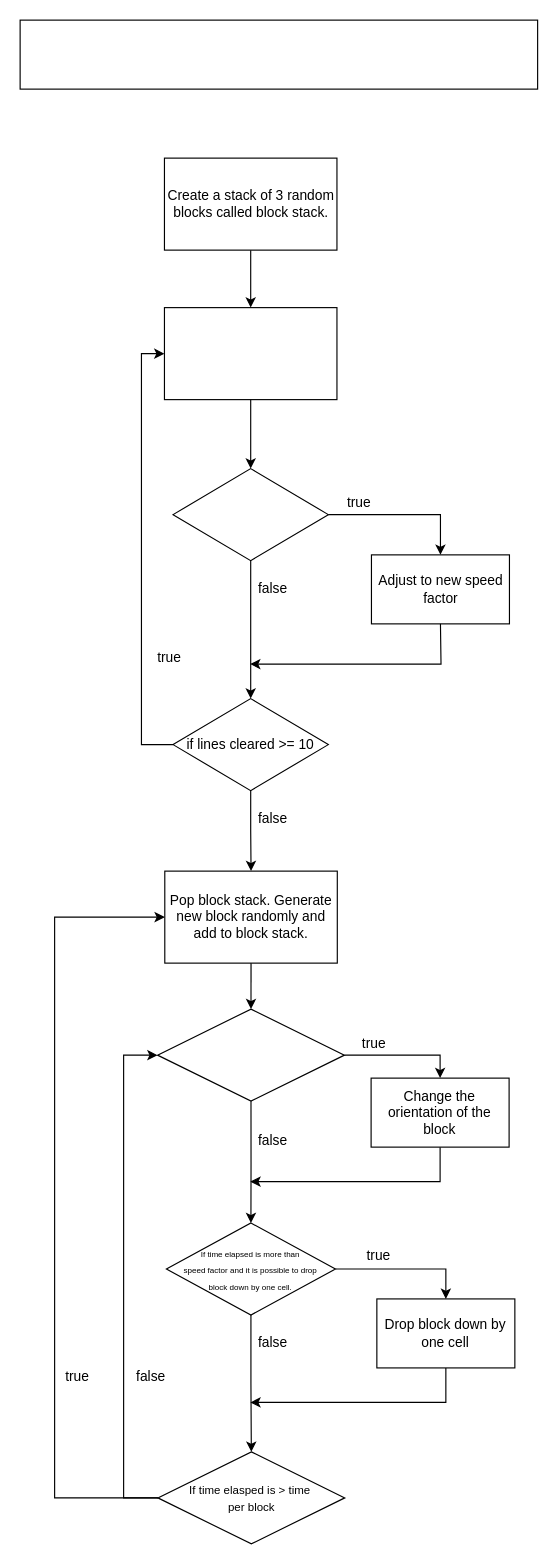
Some shapes in this 558 by 1564 pixel diagram are drawn without their labels. The shapes that lost their labels are listed below. From the top down, each one's centre as x and y in pixels, then its label:
the point at 278,54: TETRIS GAME LOGIC
the point at 250,353: Update Level (Start lvl 1) and set lines cleared to zero.
the point at 250,514: If lvl < 20
the point at 250,1054: If movement input is detected
